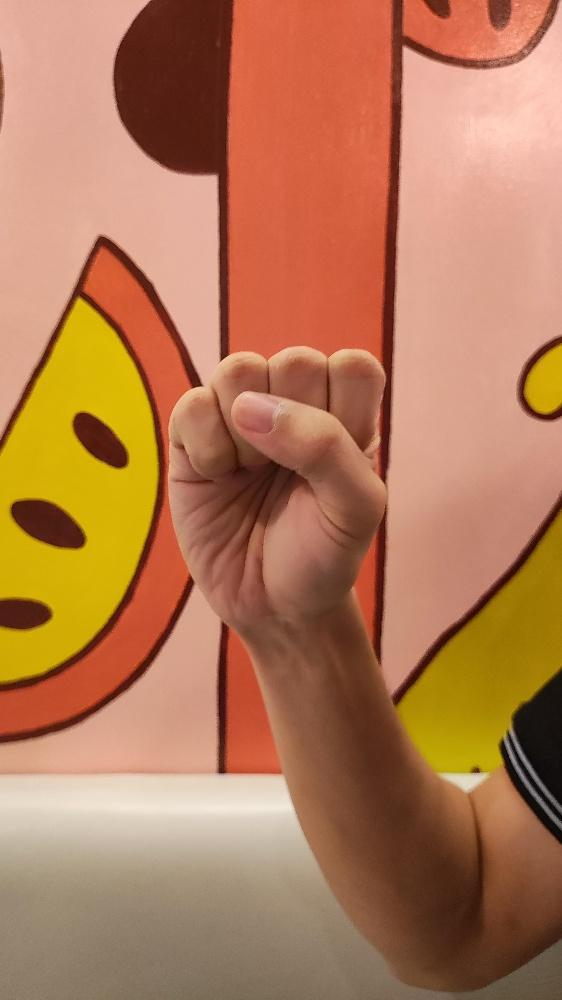s: (165, 343, 390, 616)
